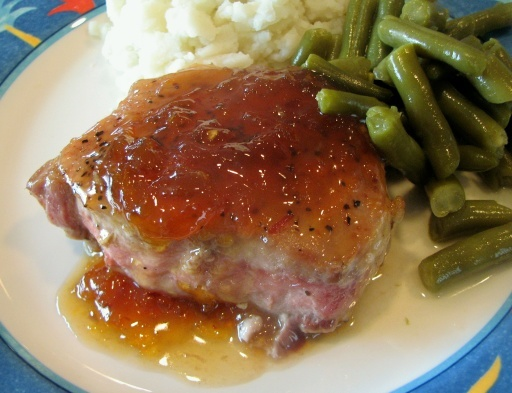background: (19, 0, 409, 221)
